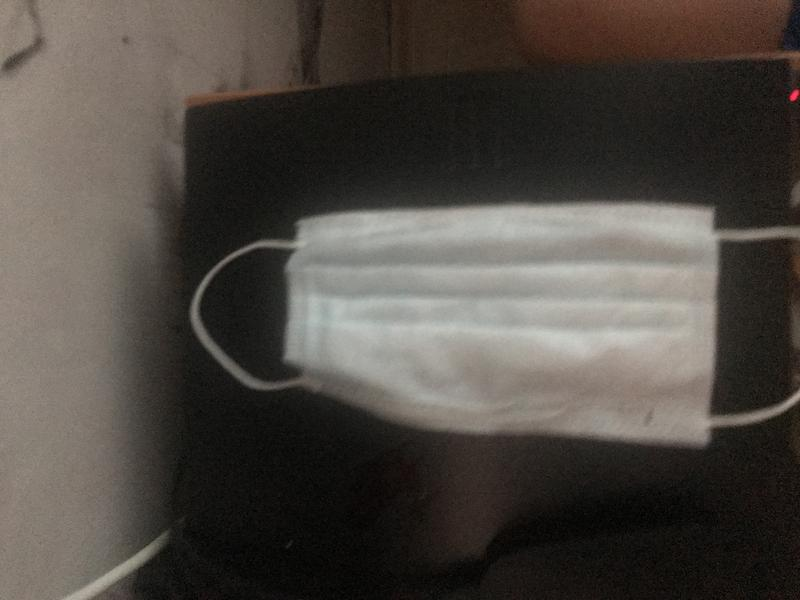medical_mask: (188, 209, 800, 450)
